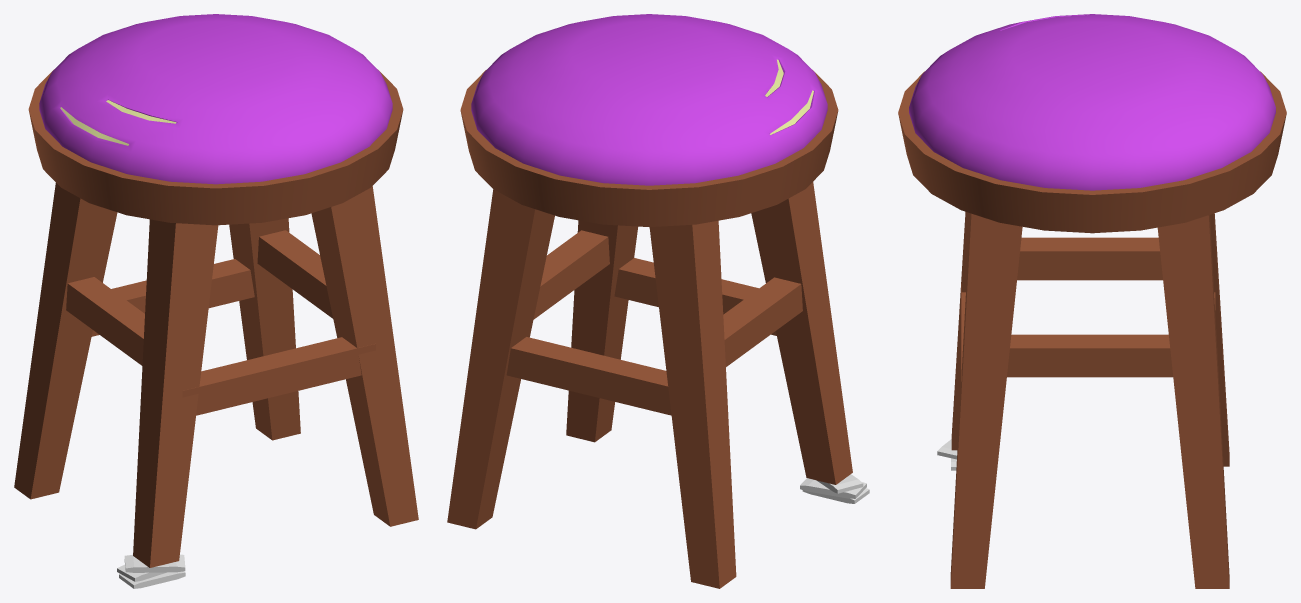
The model's file is stoolWrecked2.fbx.
3 renders of one model, left to right at view 1: azimuth 30°, elevation 25°; view 2: azimuth 150°, elevation 25°; view 3: azimuth 270°, elevation 25°, orthographic. The views are drawn at different scales.
Visible parts, largest first — view 1: Stool Wrecked 2; view 2: Stool Wrecked 2; view 3: Stool Wrecked 2.
Boxes of the visible parts, left/top/right/bottom form: Stool Wrecked 2: left=14, top=14, right=418, bottom=588; Stool Wrecked 2: left=447, top=14, right=869, bottom=588; Stool Wrecked 2: left=898, top=14, right=1286, bottom=588.
Size of the model in its own units: 38.39 by 38.39 by 50.75.
